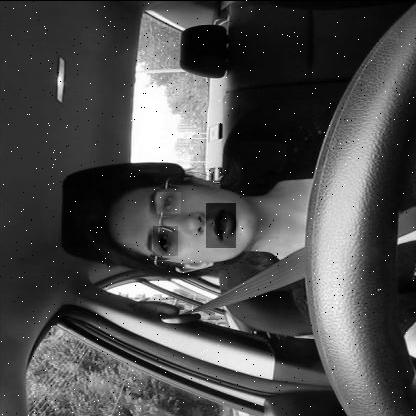seatbelt: (70, 169, 416, 302)
